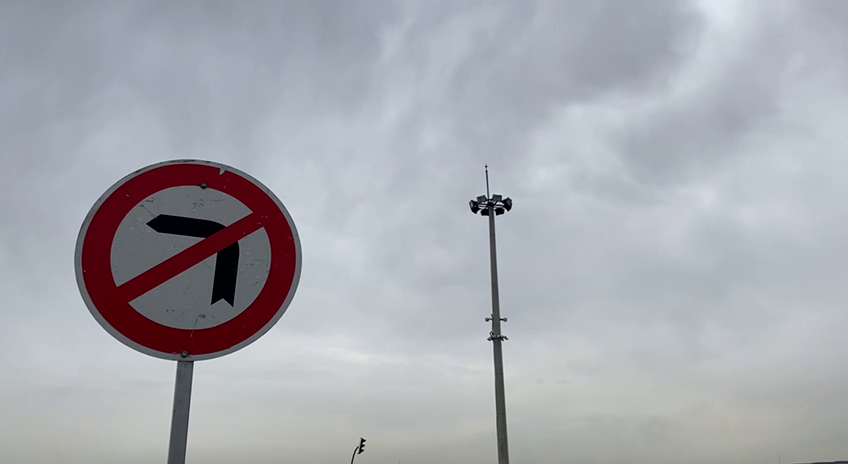noTurnLeft: (67, 149, 308, 372)
